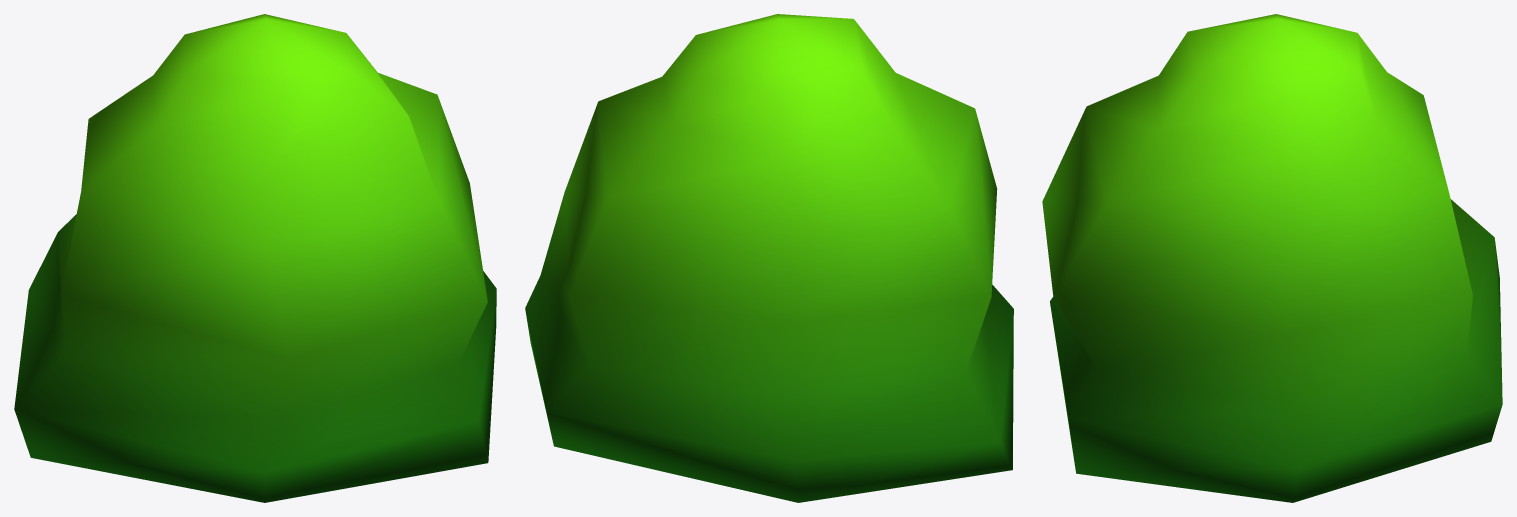
Rendered from SycamoreTree.fbx.
The picture shows the model from 3 angles, left to right: view 1: azimuth 30°, elevation 25°; view 2: azimuth 150°, elevation 25°; view 3: azimuth 270°, elevation 25°; orthographic projection. The views are drawn at different scales.
Parts seen in each view (by area): view 1: Sycamore; view 2: Sycamore; view 3: Sycamore.
Boxes of the visible parts, left/top/right/bottom form: Sycamore: left=14, top=14, right=496, bottom=502; Sycamore: left=525, top=14, right=1013, bottom=502; Sycamore: left=1042, top=14, right=1502, bottom=502.
Bounding box in the file's own units: 873 × 795 × 738.
